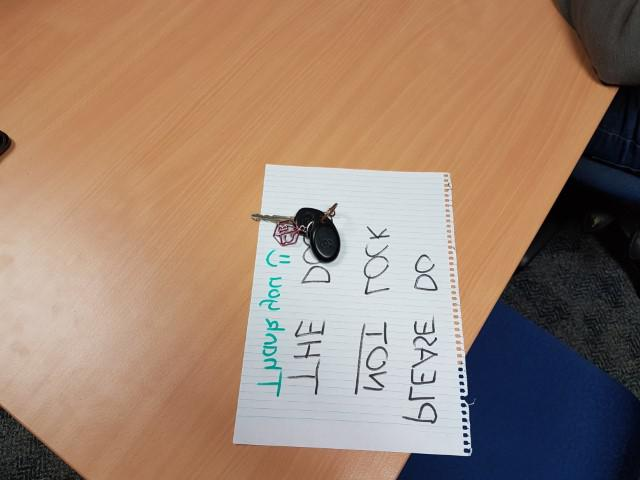key: (252, 207, 318, 235)
